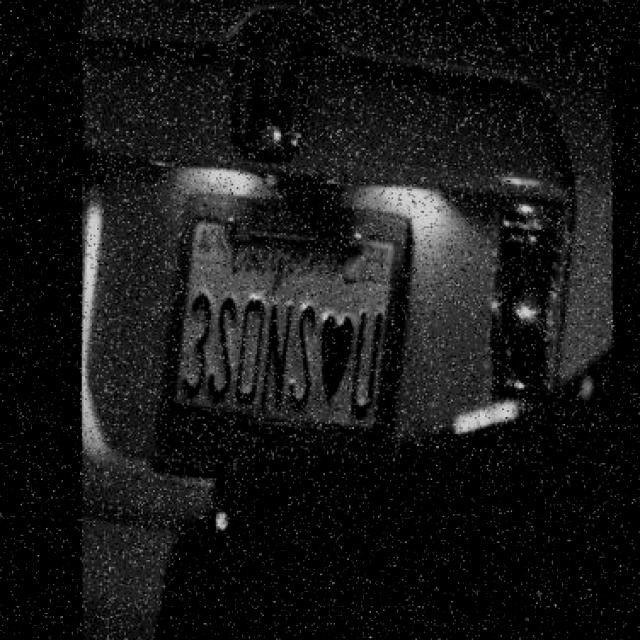licenseplate: (179, 187, 392, 441)
